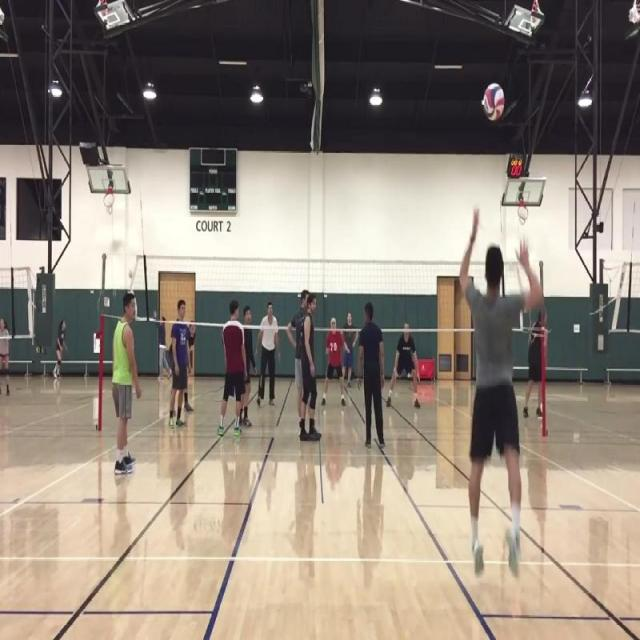volleyball: (483, 82, 504, 120)
